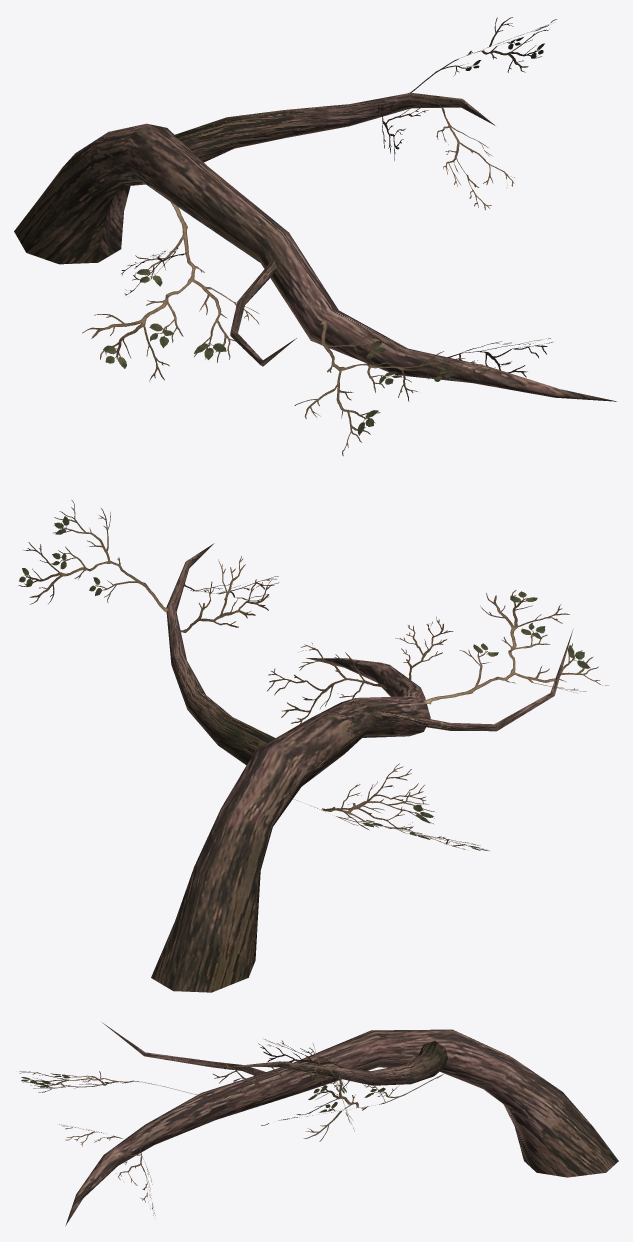
The model's file is Dead_Root.FBX.
3 views of the same model, one above another, from view 1: azimuth 30°, elevation 25°; view 2: azimuth 150°, elevation 25°; view 3: azimuth 270°, elevation 25° (orthographic). The views are drawn at different scales.
Visible parts, largest first — view 1: Dead_Root; view 2: Dead_Root; view 3: Dead_Root.
Boxes of the visible parts, x1,y1,x2,y2 form: Dead_Root: (14,17,616,456); Dead_Root: (18,500,608,992); Dead_Root: (19,1022,618,1225).
Bounding box in the file's own units: 240 × 133 × 331.
